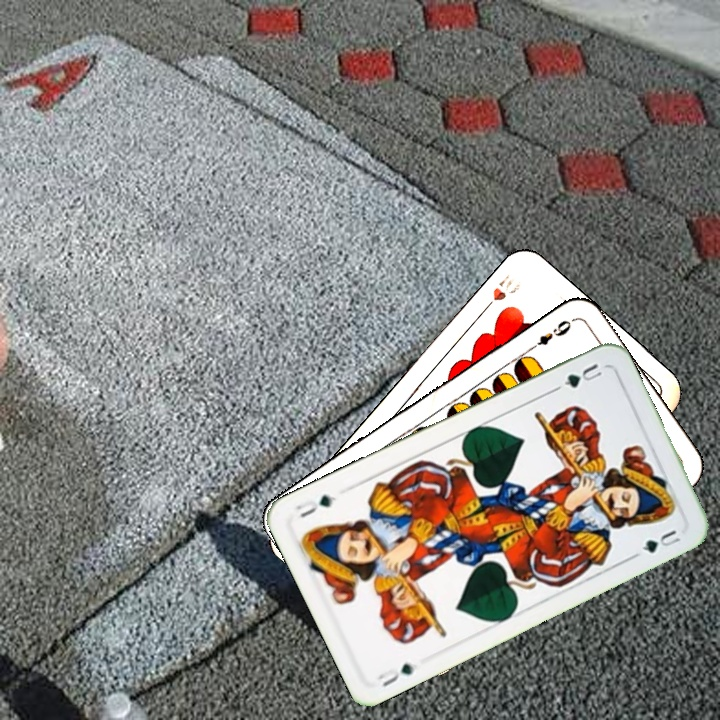E9: (524, 315, 576, 355)
GU: (559, 359, 605, 391), (373, 659, 418, 690)
H10: (477, 270, 524, 316)
